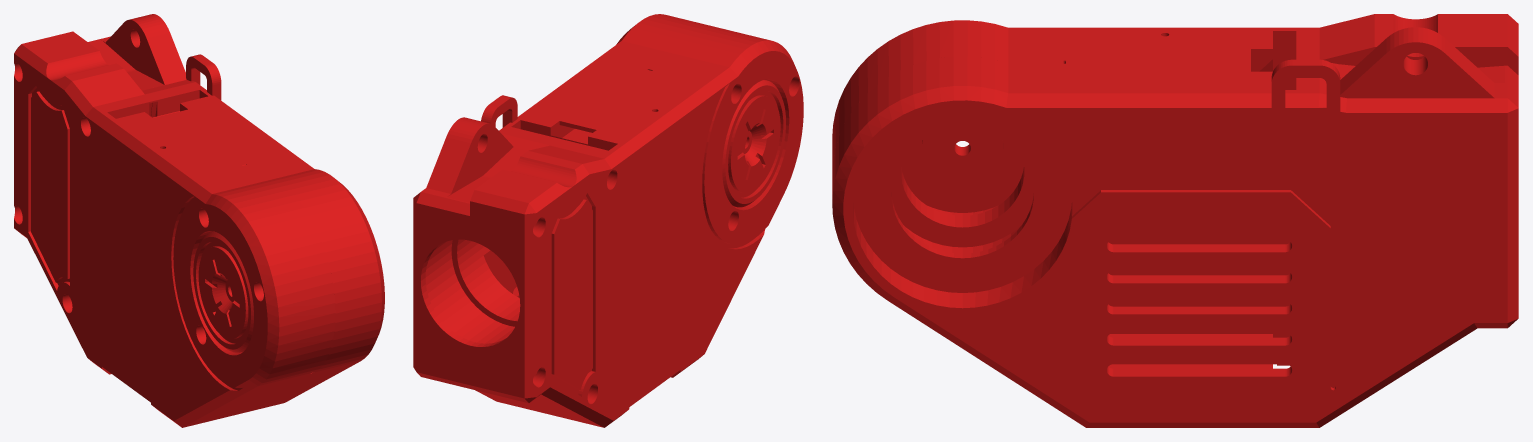
The model's file is shin-rf.obj.
The picture shows the model from 3 angles, left to right: view 1: azimuth 30°, elevation 25°; view 2: azimuth 150°, elevation 25°; view 3: azimuth 270°, elevation 25°; orthographic projection. The views are drawn at different scales.
Visible parts, largest first — view 1: \u5c0f\u817f-\u5916\u4fa7-\u53f3\u524d, \u5c0f\u817f-\u5185\u4fa7-\u53f3\u524d, \u5927\u817f\u5c0f\u817f\u9501\u5b9a\u5835\u5934-\u53f3\u524d; view 2: \u5c0f\u817f-\u5916\u4fa7-\u53f3\u524d, \u5c0f\u817f-\u5185\u4fa7-\u53f3\u524d, \u5927\u817f\u5c0f\u817f\u9501\u5b9a\u5835\u5934-\u53f3\u524d; view 3: \u5c0f\u817f-\u5185\u4fa7-\u53f3\u524d, \u5c0f\u817f-\u5916\u4fa7-\u53f3\u524d, \u5927\u817f\u5c0f\u817f\u9501\u5b9a\u5835\u5934-\u53f3\u524d.
Part boxes in pixels (x1,y1,x2,y2): \u5c0f\u817f-\u5916\u4fa7-\u53f3\u524d: (14, 31, 335, 427); \u5c0f\u817f-\u5185\u4fa7-\u53f3\u524d: (88, 14, 384, 415); \u5927\u817f\u5c0f\u817f\u9501\u5b9a\u5835\u5934-\u53f3\u524d: (193, 231, 253, 352); \u5c0f\u817f-\u5916\u4fa7-\u53f3\u524d: (470, 26, 803, 427); \u5c0f\u817f-\u5185\u4fa7-\u53f3\u524d: (413, 14, 711, 414); \u5927\u817f\u5c0f\u817f\u9501\u5b9a\u5835\u5934-\u53f3\u524d: (722, 80, 785, 207); \u5c0f\u817f-\u5185\u4fa7-\u53f3\u524d: (832, 27, 1518, 427); \u5c0f\u817f-\u5916\u4fa7-\u53f3\u524d: (832, 14, 1518, 365); \u5927\u817f\u5c0f\u817f\u9501\u5b9a\u5835\u5934-\u53f3\u524d: (901, 129, 1023, 212).
Size of the model in its own units: 25.8 by 61.99 by 100.
